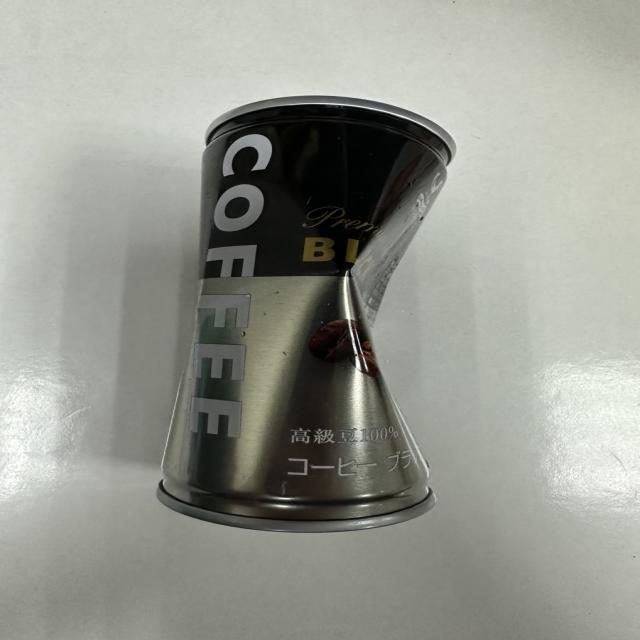Can: (178, 96, 450, 526)
